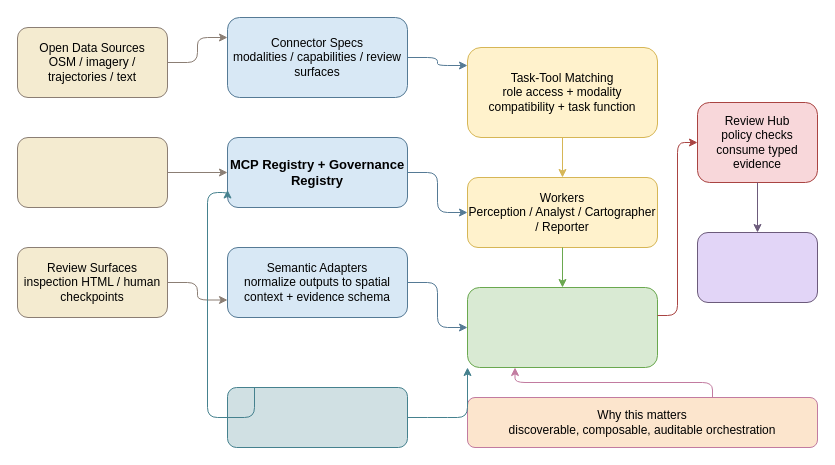
The diagram is 835 pixels wide and 465 high, and some of its shapes have lost their labels. Each missing label, with the centre of its shape:
"Access Matrix role-specific R / W permissions" goes at (x=317, y=417).
"External Services Rhino / web APIs / VLM endpoints" goes at (x=92, y=172).
"Quality Controller confidence + revision routing" goes at (x=757, y=267).
"Typed Evidence Manifest spatial + temporal + population + governance + tags" goes at (x=562, y=327).
